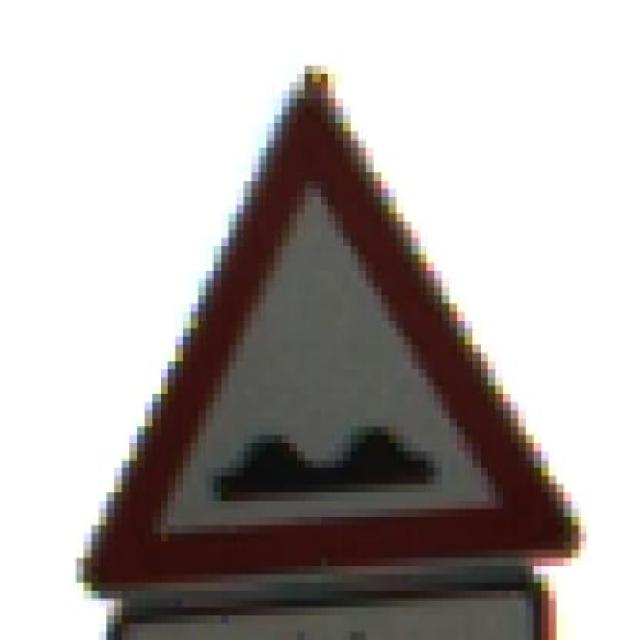Uneven Road: (84, 66, 587, 592)
